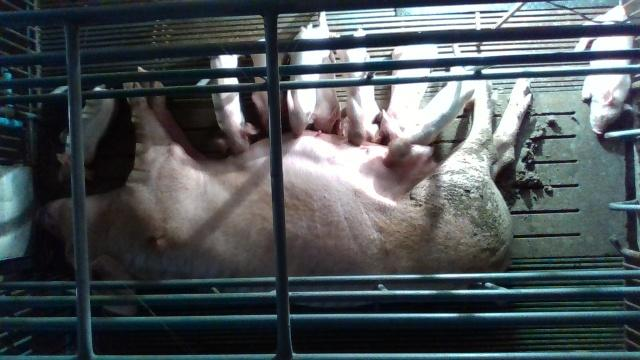piglet: (381, 81, 472, 168), (575, 6, 635, 134), (380, 45, 439, 145), (57, 83, 116, 180), (334, 29, 381, 146), (287, 12, 330, 137), (210, 55, 261, 155), (252, 39, 284, 136)
sow-sleep-lactate: (35, 63, 533, 308)
